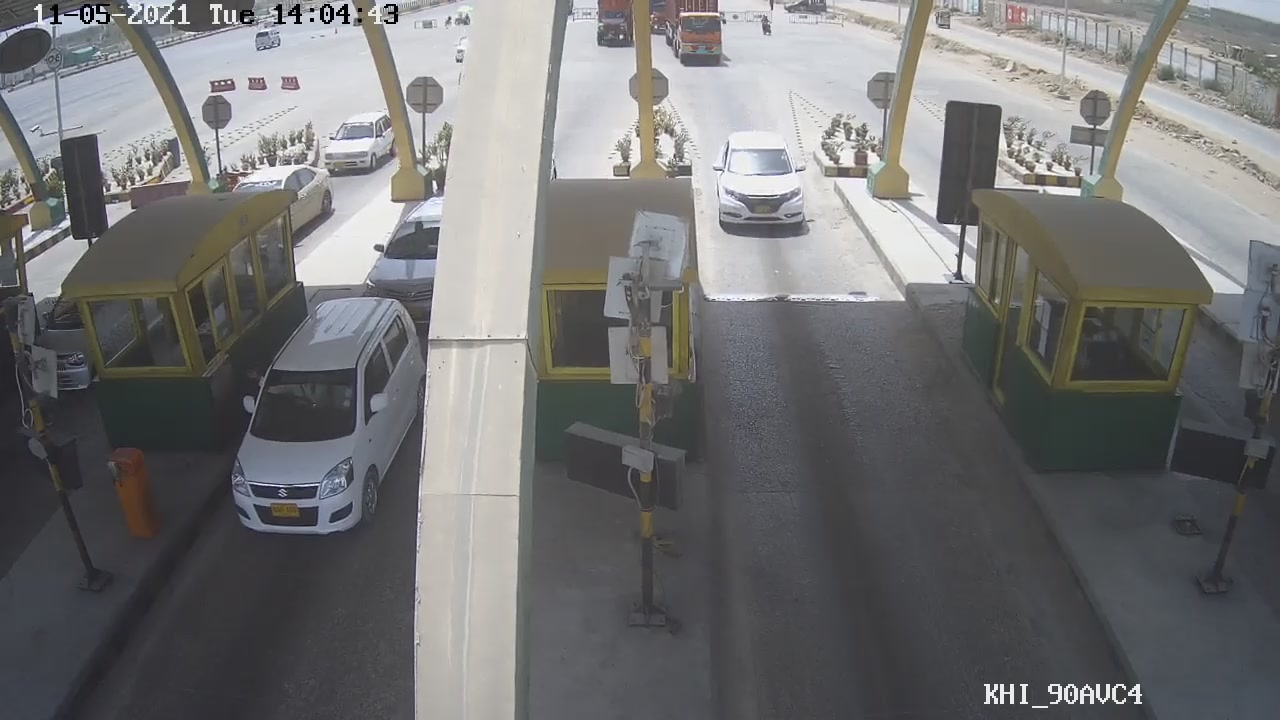F1: (710, 124, 815, 237)
